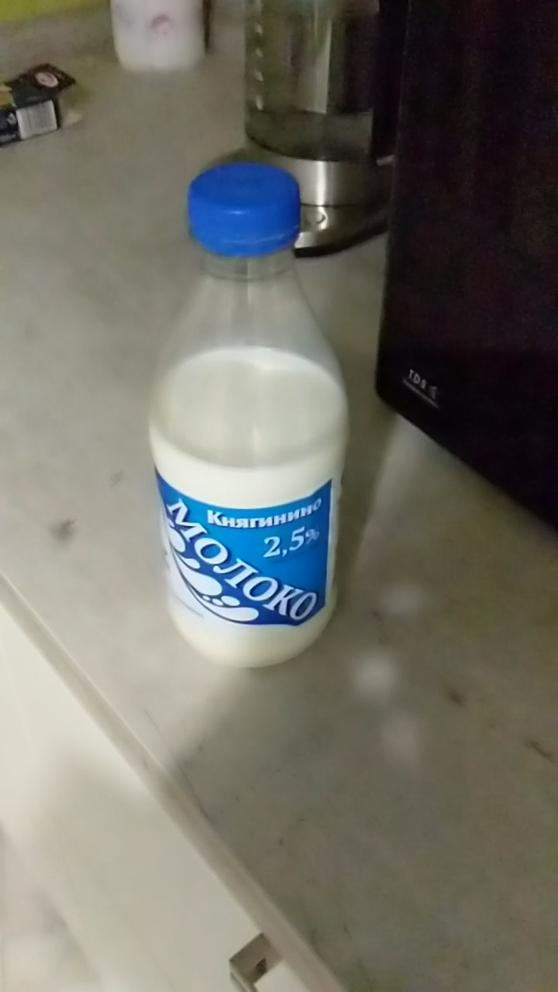milk: (125, 143, 370, 703)
